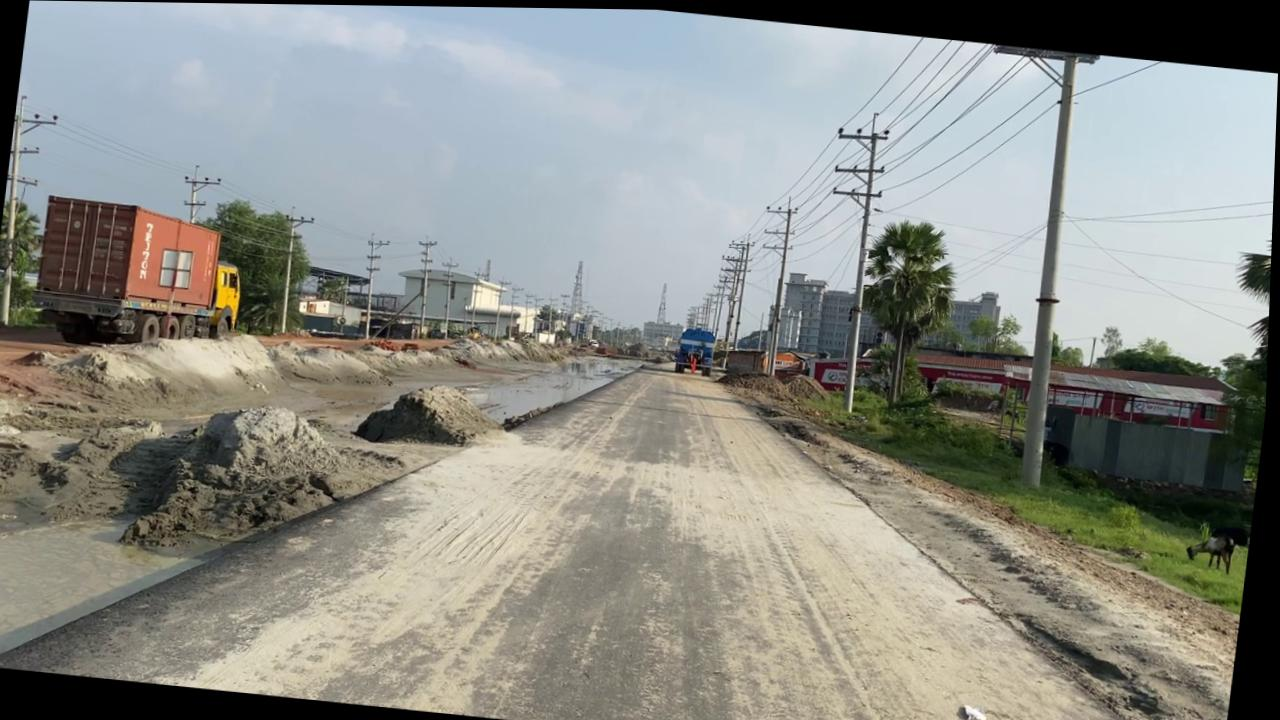Pole: (1012, 51, 1093, 485)
Sidewalk: (0, 291, 648, 720)
Traffic-sign: (849, 211, 967, 409)
Tree: (28, 193, 252, 358), (675, 323, 720, 375)
